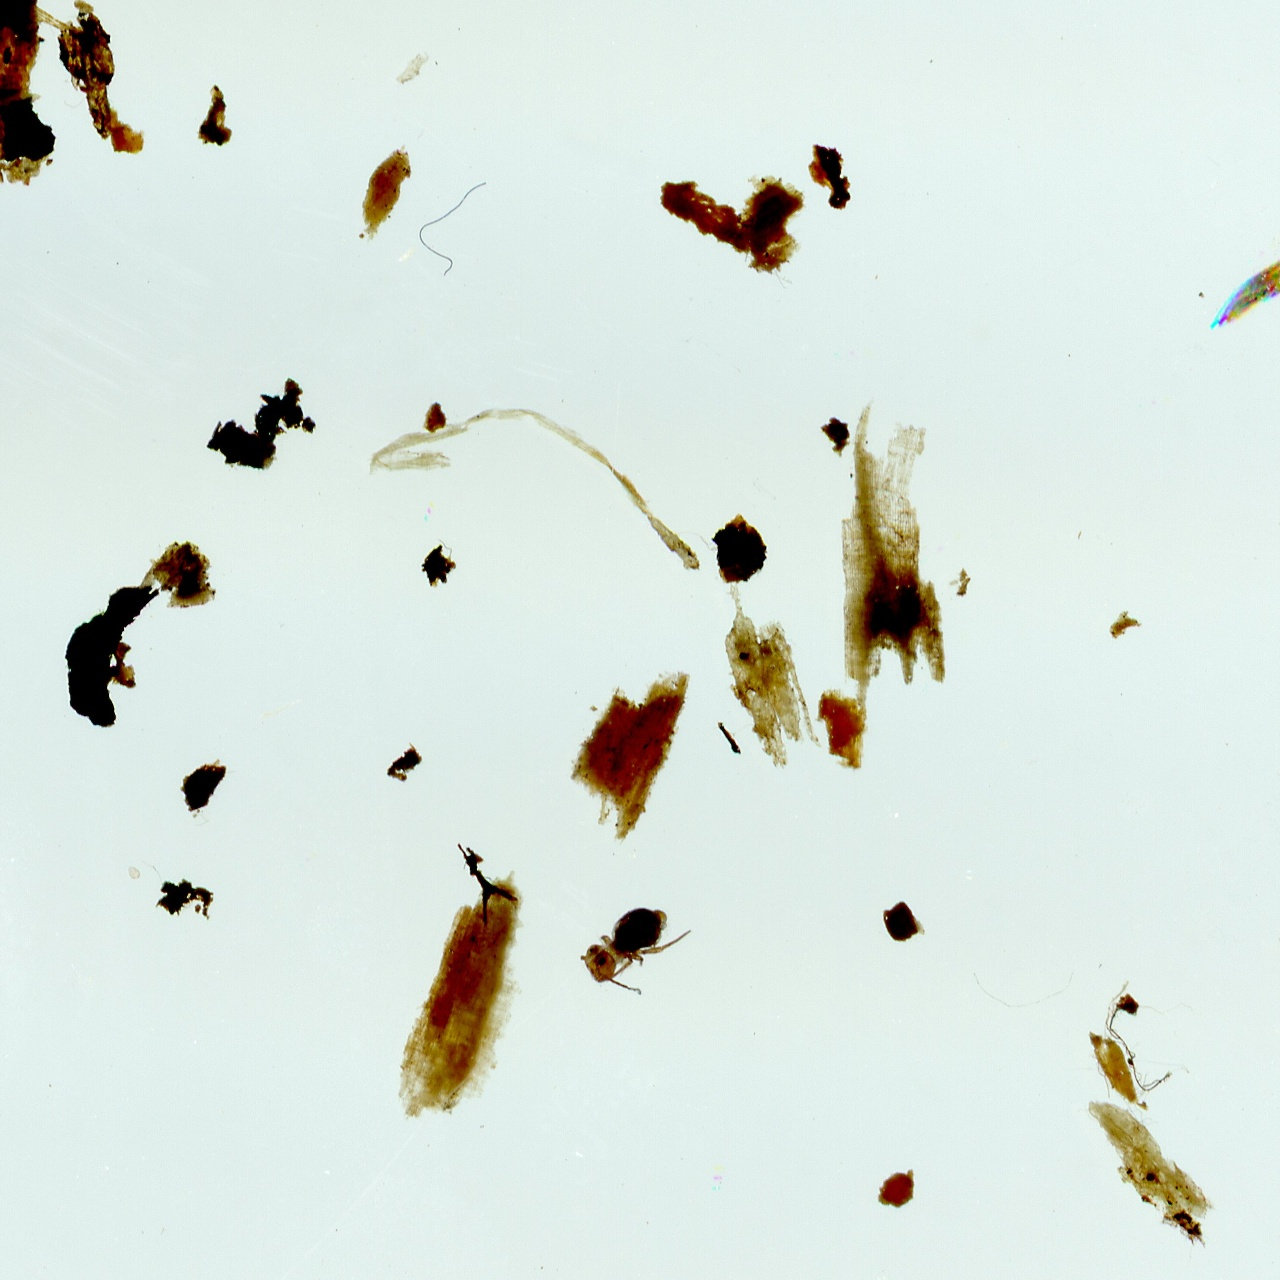arthropod: (574, 900, 698, 1003)
